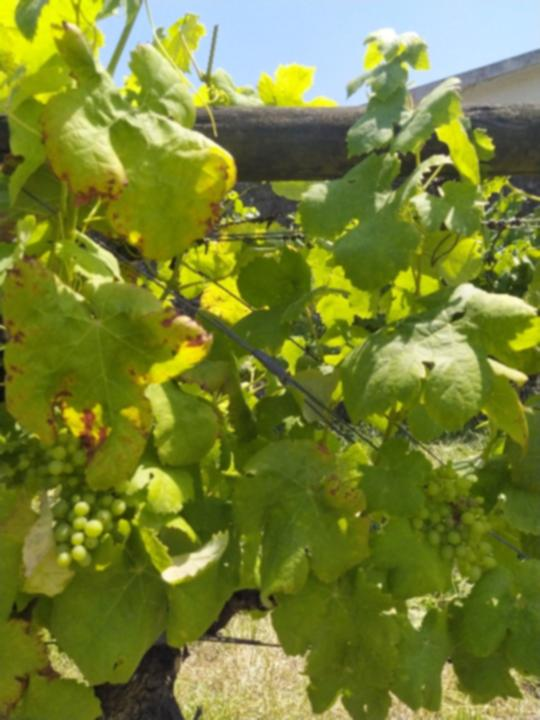grape: (37, 425, 129, 569), (410, 465, 500, 584)
